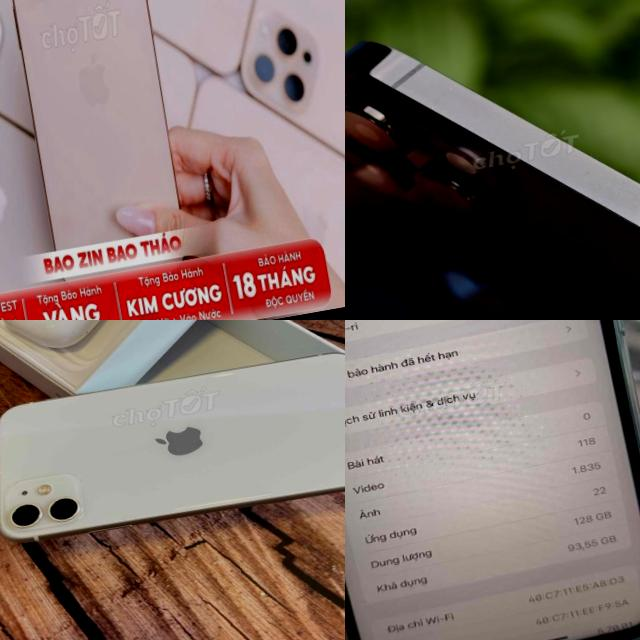screen_defect: (356, 326, 552, 490)
